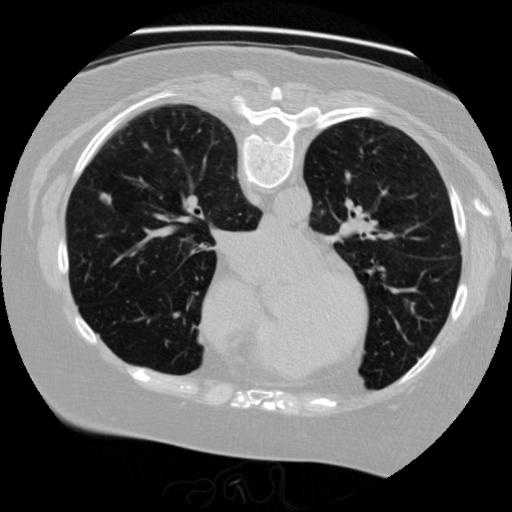nodule: (96, 191, 113, 208)
